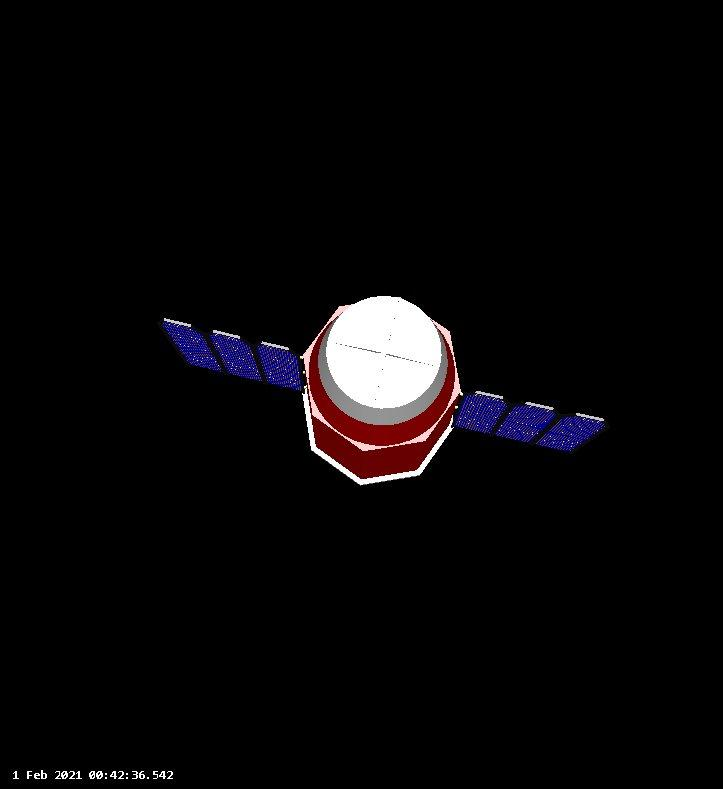body: (299, 294, 464, 489)
solar: (156, 314, 305, 395), (451, 388, 611, 458)
